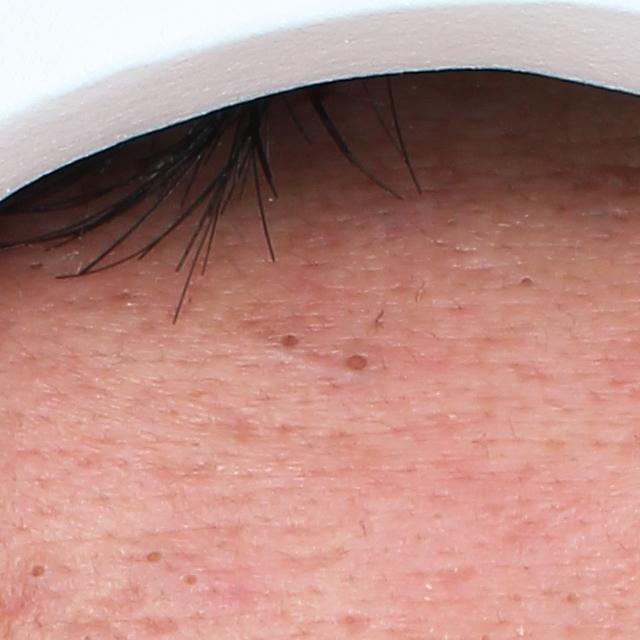atrophic_scar: (82, 574, 159, 618), (290, 542, 352, 576), (330, 607, 370, 636)
comedo: (340, 350, 372, 373), (511, 270, 538, 297), (275, 332, 302, 352)
